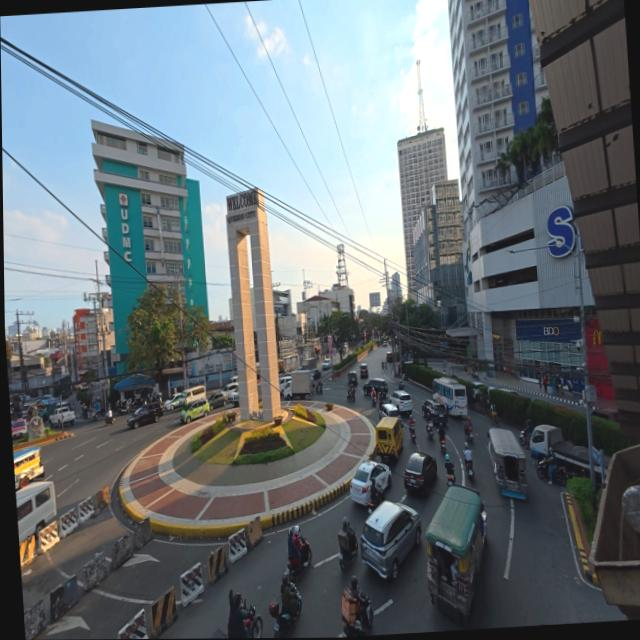car: (355, 498, 424, 585), (401, 449, 440, 500), (127, 405, 164, 430)
